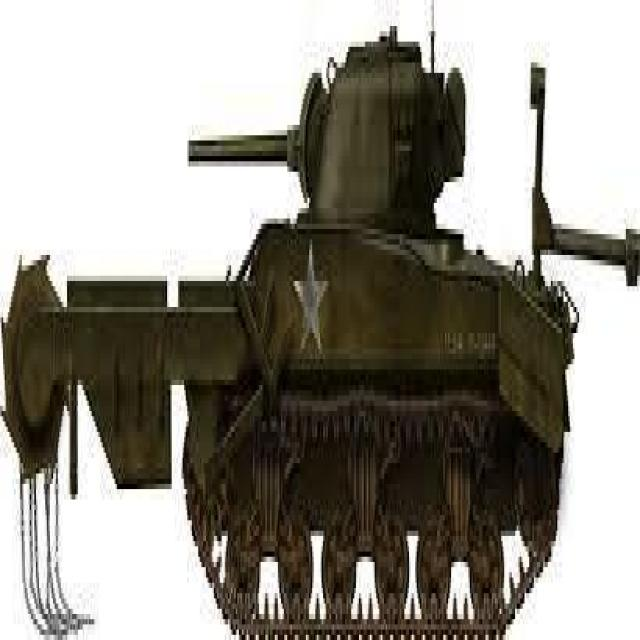Tanks: (9, 52, 581, 635)
